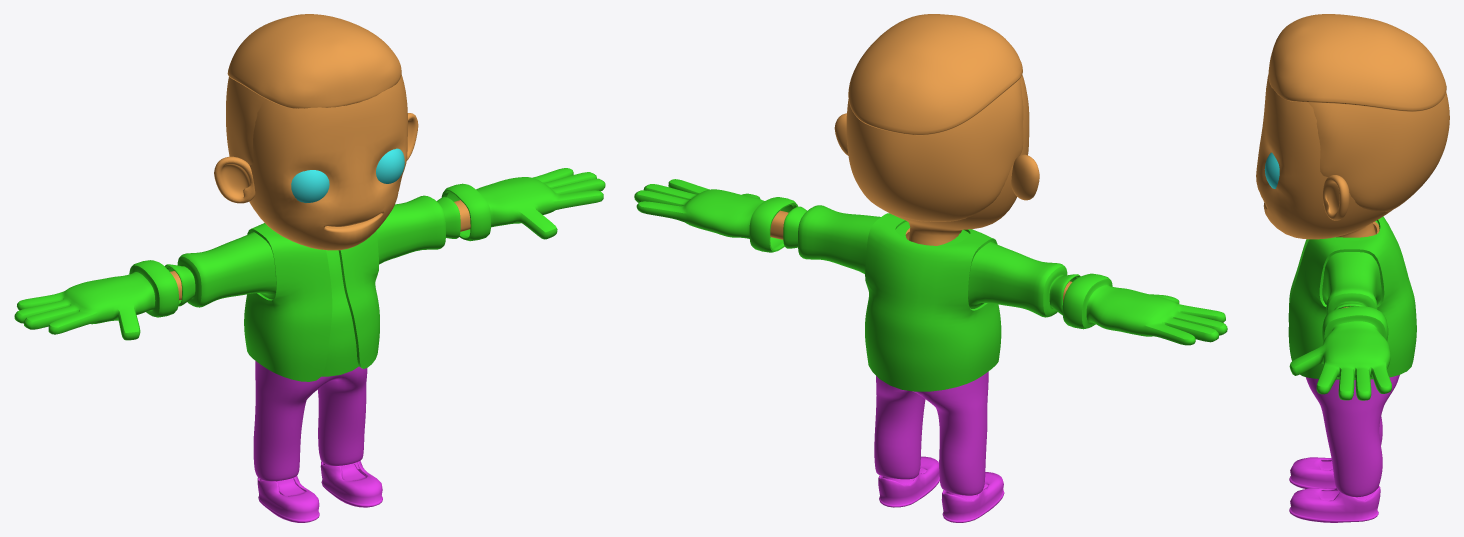
Rendered from Player1.fbx.
3 views of the same model, side by side, from view 1: azimuth 30°, elevation 25°; view 2: azimuth 150°, elevation 25°; view 3: azimuth 270°, elevation 25° (orthographic).
Parts seen in each view (by area): view 1: Cabeza, Guantes, Chaleco, Parte_arriba_pelo, Jersei, Pantalones, Sabates, Pelo, Orejas, Sphere; view 2: Chaleco, Parte_arriba_pelo, Pelo, Guantes, Jersei, Pantalones, Sabates, Cabeza, Orejas; view 3: Parte_arriba_pelo, Pelo, Cabeza, Chaleco, Guantes, Pantalones, Sabates, Jersei, Orejas, Sphere.
Part boxes in pixels (x1,y1,x2,y2): Cabeza: [249, 74, 407, 250]; Guantes: [14, 168, 605, 340]; Chaleco: [244, 223, 379, 381]; Parte_arriba_pelo: [227, 14, 401, 108]; Jersei: [164, 195, 460, 376]; Pantalones: [253, 361, 367, 481]; Sabates: [257, 460, 382, 522]; Pelo: [226, 77, 267, 164]; Orejas: [214, 113, 418, 203]; Sphere: [291, 148, 404, 202]; Chaleco: [865, 213, 1001, 391]; Parte_arriba_pelo: [848, 14, 1022, 135]; Pelo: [846, 78, 1023, 221]; Guantes: [634, 179, 1227, 345]; Jersei: [783, 205, 1080, 317]; Pantalones: [874, 371, 988, 495]; Sabates: [878, 456, 1004, 522]; Cabeza: [890, 74, 1029, 245]; Orejas: [834, 113, 1039, 200]; Parte_arriba_pelo: [1268, 14, 1446, 111]; Pelo: [1308, 92, 1449, 211]; Cabeza: [1256, 75, 1392, 239]; Chaleco: [1288, 216, 1416, 379]; Guantes: [1289, 306, 1391, 400]; Pantalones: [1305, 375, 1399, 497]; Sabates: [1289, 457, 1380, 522]; Jersei: [1322, 220, 1381, 314]; Orejas: [1322, 175, 1349, 220]; Sphere: [1264, 152, 1279, 188].
Bounding box in the file's own units: 231 × 181 × 66.71.
